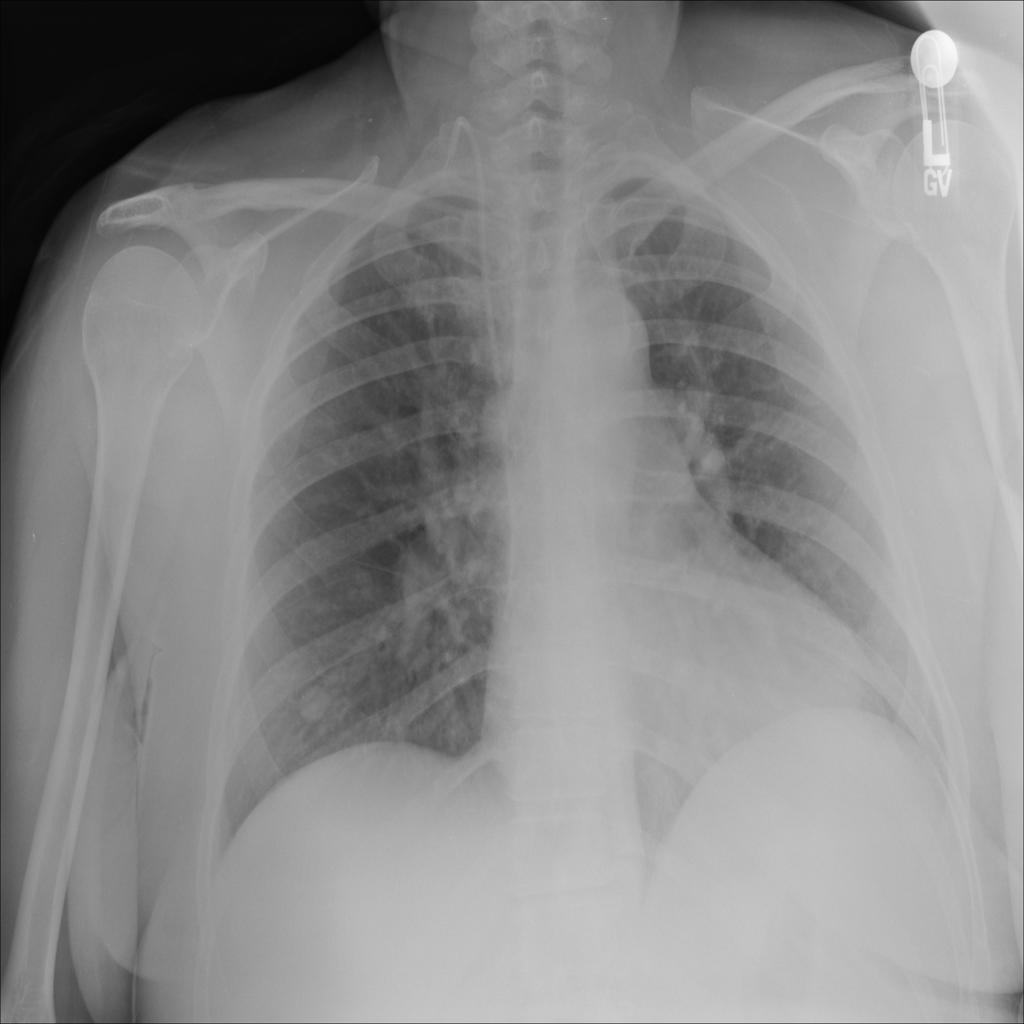nodule: (285, 669, 350, 743)
